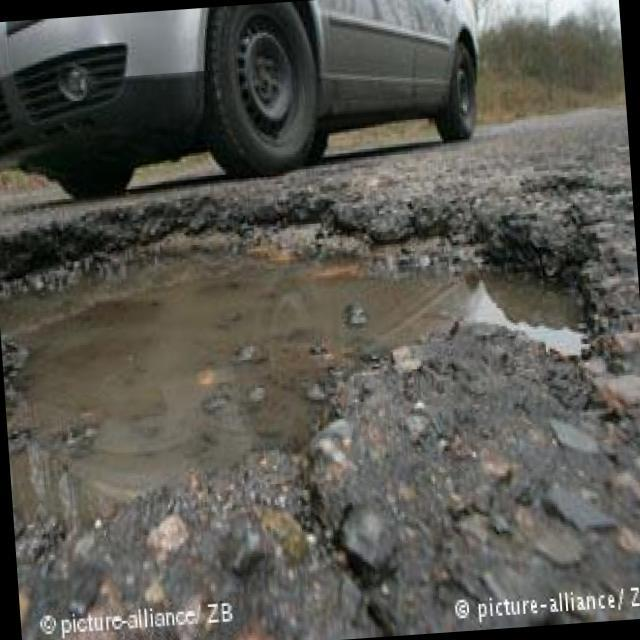Pothole: (0, 167, 640, 622)
